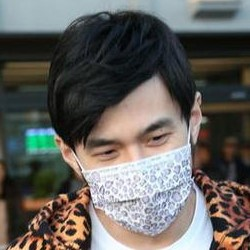mask: (74, 141, 196, 235)
